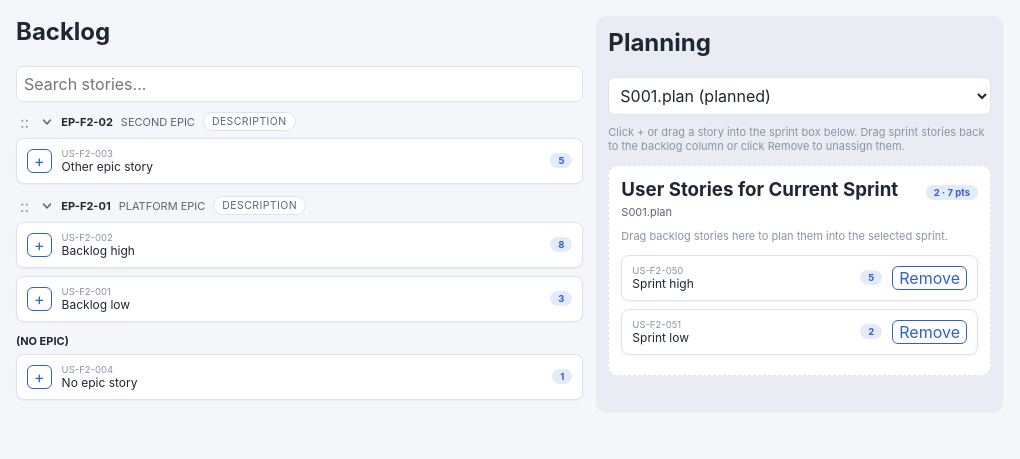
BacklogView › lists unplanned stories by epic and plans one into the selected sprint
The width and height of the screenshot is (1020, 459).
Expected: the text "US-F2-001" is shown, [62,286,111,297]
Expected: the element named "current sprint drop target" shows "Sprint high", [632,276,694,291]
Click the button named "add US-F2-001". click: (39, 299)
box: [27,287,52,311]
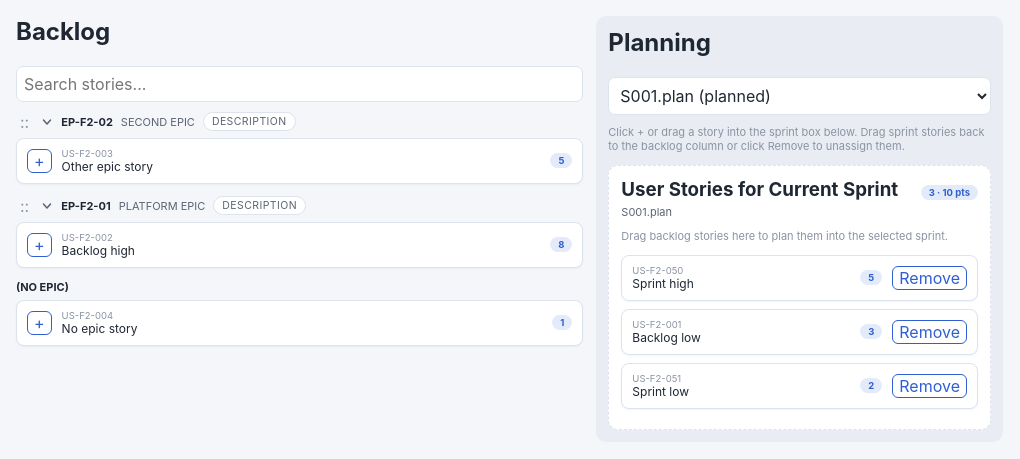
Expected: the element named "current sprint drop target" shows "US-F2-001", [632,319,682,330]
